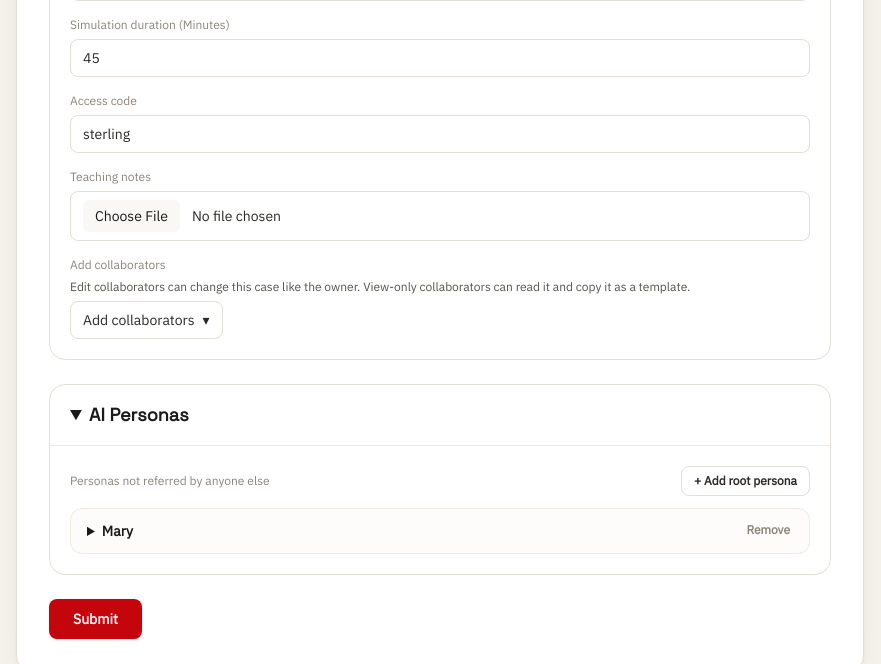
Test: CaseForm › edit mode › reloads the case from the server after a successful update
The width and height of the screenshot is (881, 664).
(page scrolled)
Click the button "Submit": (95,618) [49,598,142,638]
(page scrolled)
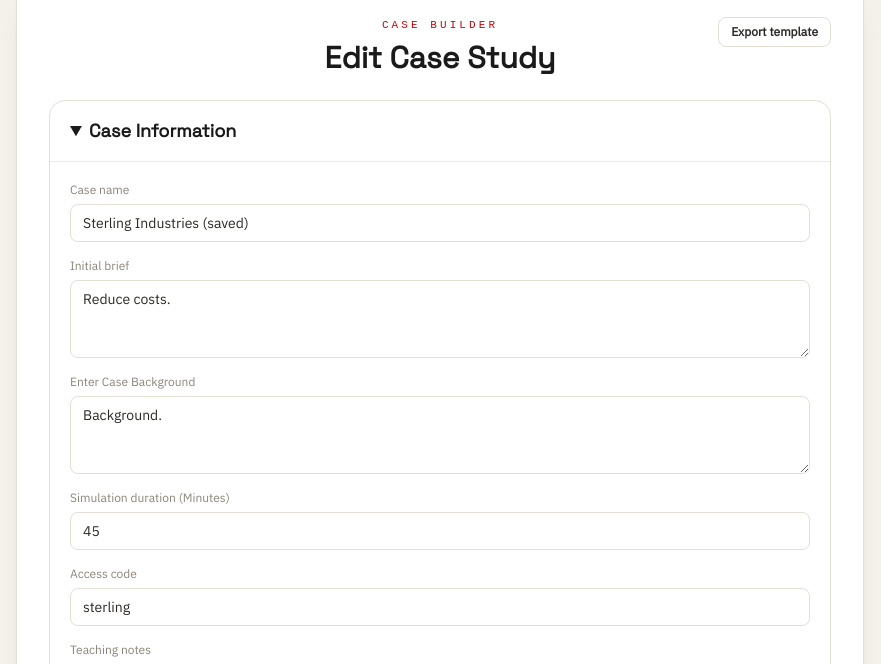
Now the field showing "Sterling Industries (saved)" is shown, box [70,204,810,242]
